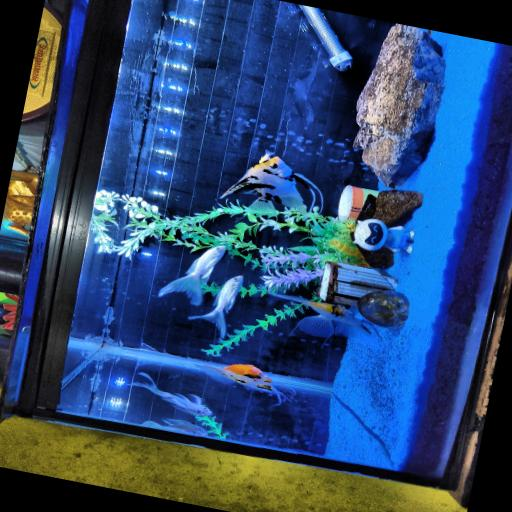Fish: (222, 151, 317, 213), (271, 293, 374, 342), (159, 245, 226, 304), (132, 372, 212, 415), (198, 364, 286, 403), (189, 275, 243, 337), (143, 418, 208, 436)
